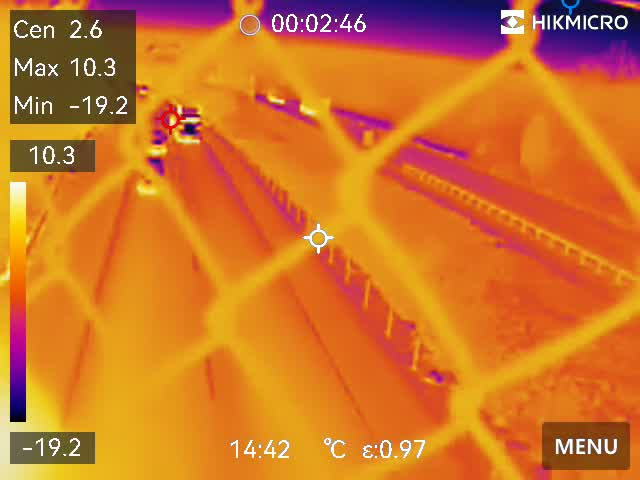heavyTruck: (162, 98, 207, 152)
vehicle: (135, 139, 170, 203), (296, 92, 330, 120)
